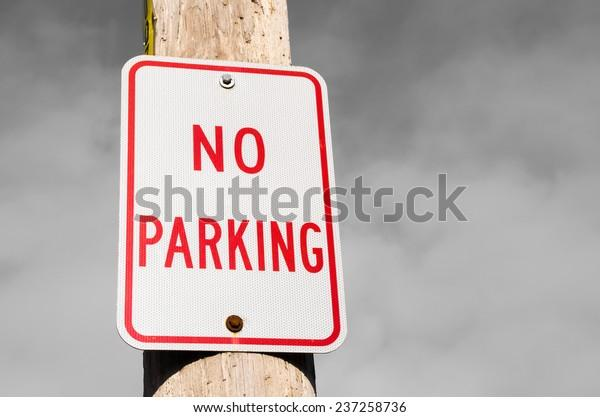No Parking: (135, 79, 331, 321)
